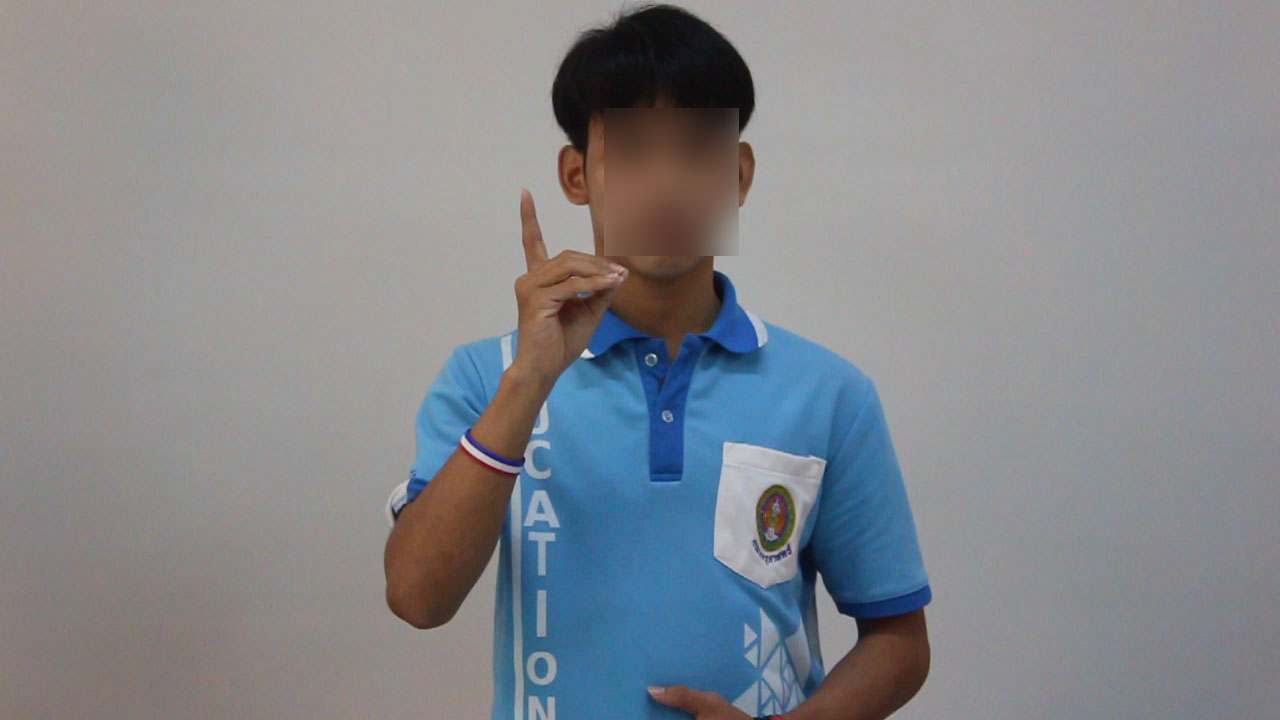dor: (500, 180, 634, 383)
